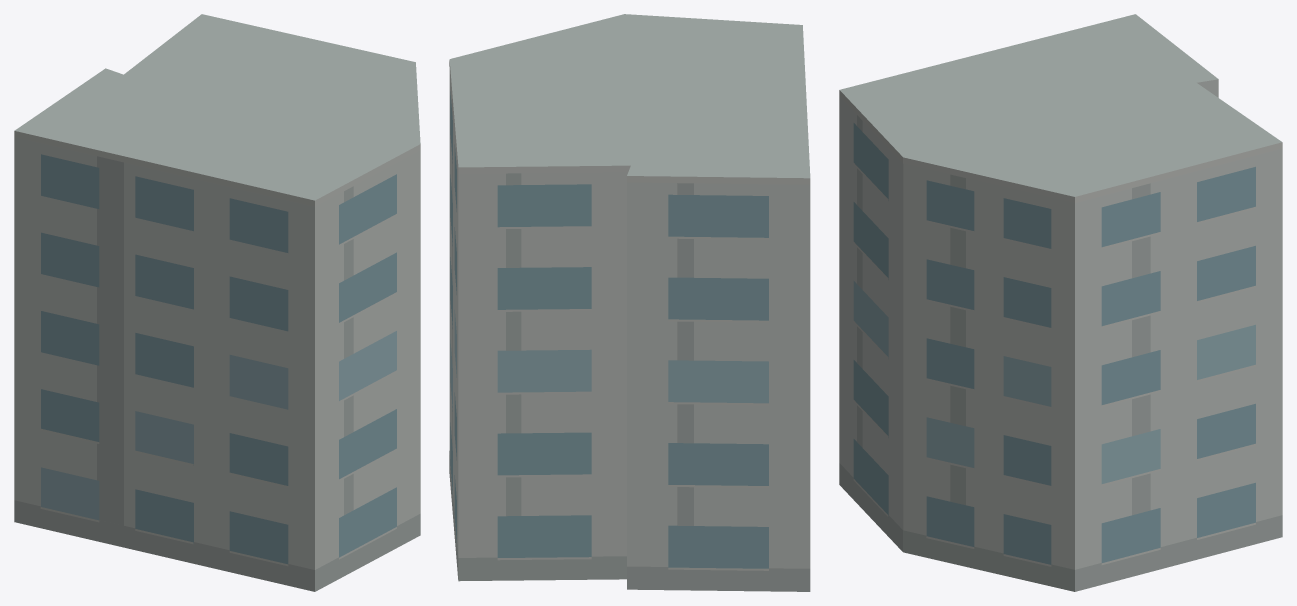
Rendered from survey-upis-32475579.glb.
3 renders of one model, left to right at view 1: azimuth 30°, elevation 25°; view 2: azimuth 150°, elevation 25°; view 3: azimuth 270°, elevation 25°, orthographic. The views are drawn at different scales.
Visible parts, largest first — view 1: survey-upis-32475579.tmp; view 2: survey-upis-32475579.tmp; view 3: survey-upis-32475579.tmp.
Boxes of the visible parts, box(x1,y1,x2,y2) form: survey-upis-32475579.tmp: box(14, 14, 420, 591); survey-upis-32475579.tmp: box(449, 14, 810, 591); survey-upis-32475579.tmp: box(839, 14, 1282, 591).
Bounding box in the file's own units: 15.18 × 15.27 × 15.54.
